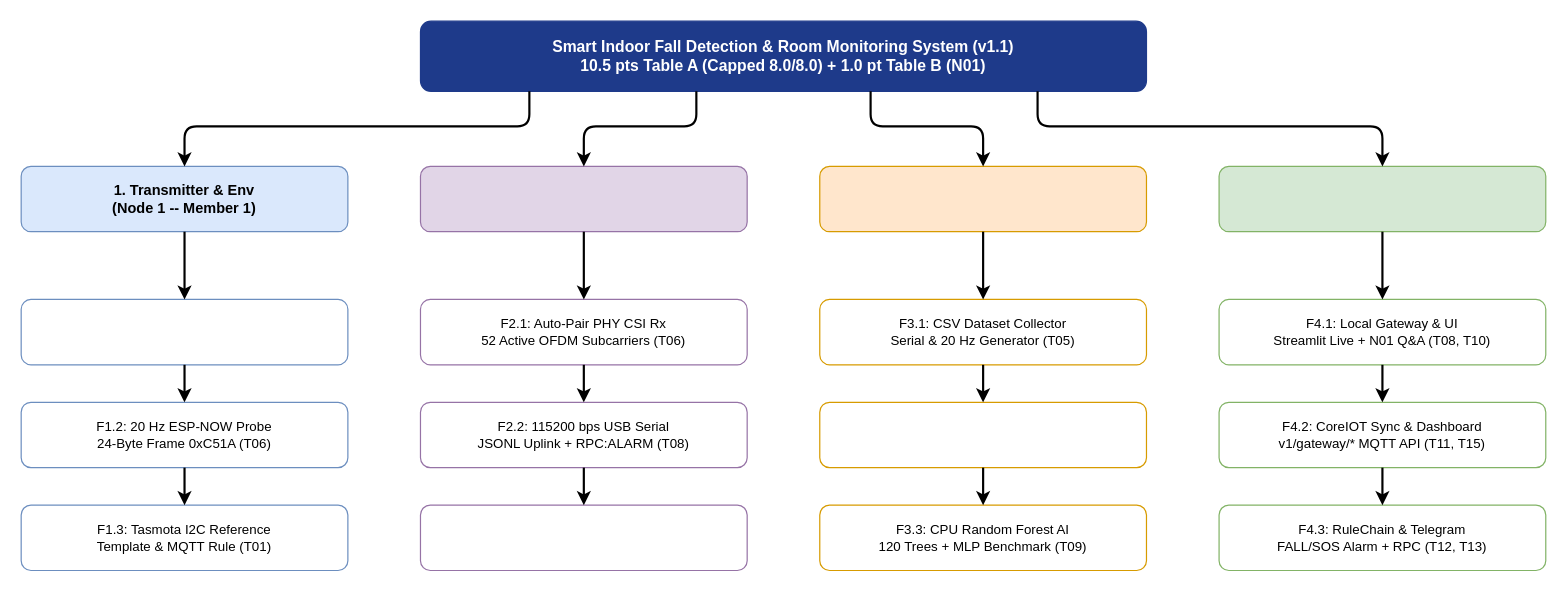
Image size: 1567x592. Some labels were removed from this diagram. The shapes that lost their labels are listed below. From the top down, each one's centre as x and y in pixels, then its label:
At point 583,198: "2. CSI Receiver & Alarm (Node 2 -- Member 1)".
At point 982,198: "3. Data & CPU AI Engine (PC Gateway -- Member 2)".
At point 1382,198: "4. UI, Cloud & Alerts (CoreIOT -- Member 3)".
At point 184,331: "F1.1: Non-Blocking I2C DHT20 0x38 Temp/Humi + CRC-8 (T01)".
At point 982,434: "F3.2: Statistical Signal DSP Moving Avg (W=3) + 12 Features".
At point 583,537: "F2.3: Local Safety Actuators Buzzer + RGB LED + 3s SOS Button".
